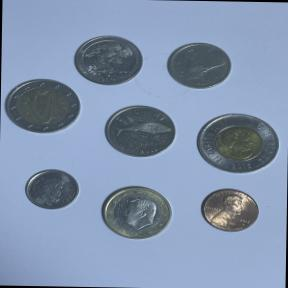coin: (192, 110, 286, 178), (97, 182, 184, 246), (2, 77, 83, 138), (102, 101, 181, 162), (71, 31, 145, 88), (194, 184, 264, 238), (21, 164, 85, 214)
